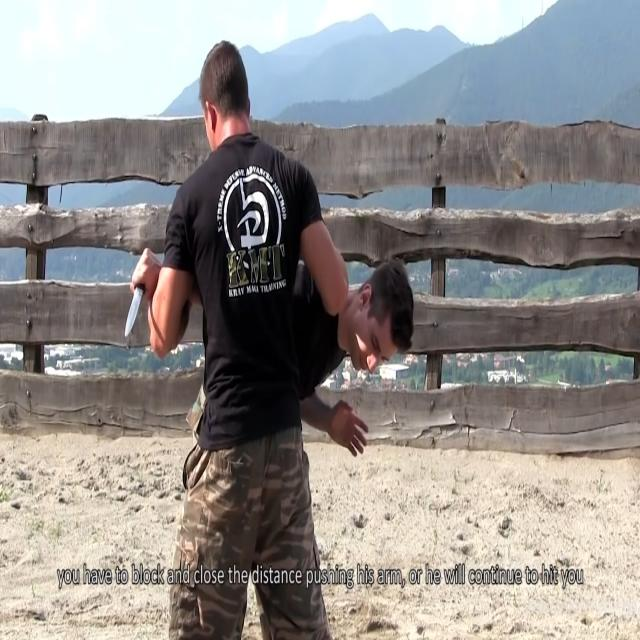knife: (125, 288, 145, 342)
